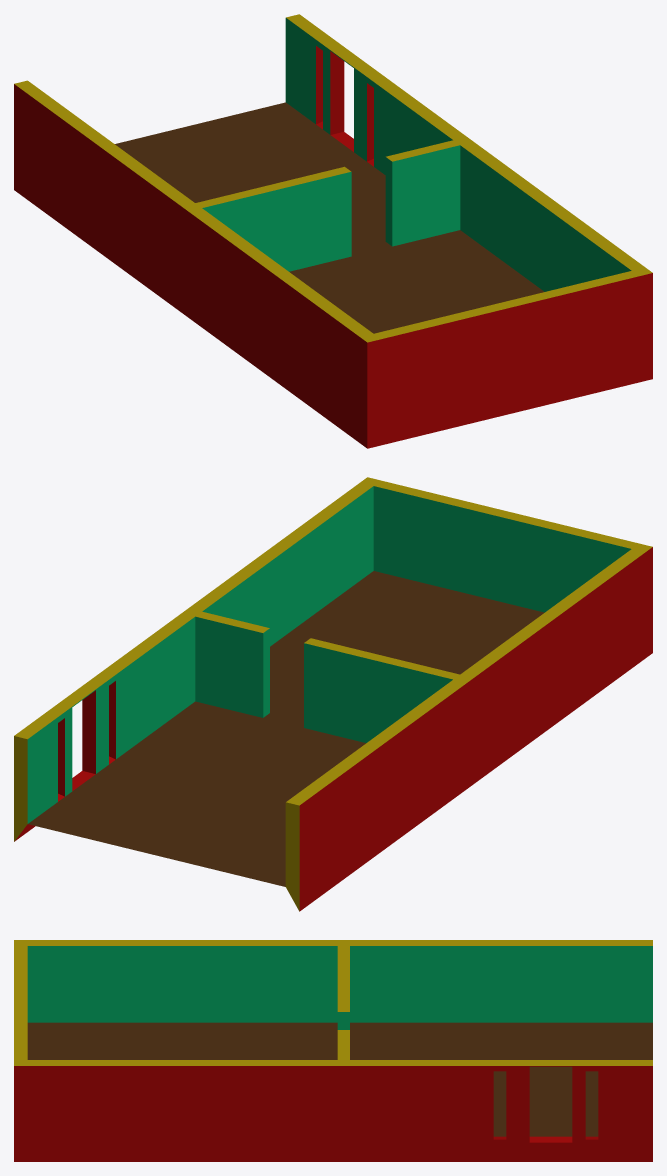
File: Raum.fbx
3 renders of one model, top to bottom at view 1: azimuth 30°, elevation 25°; view 2: azimuth 150°, elevation 25°; view 3: azimuth 270°, elevation 25°, orthographic. The views are drawn at different scales.
Visible parts, largest first — view 1: Raum; view 2: Raum; view 3: Raum.
Part boxes in pixels (x1,y1,x2,y2): Raum: (14,14,652,448); Raum: (14,477,652,911); Raum: (14,940,652,1161).
Bounding box in the file's own units: 700 × 249 × 1501.
